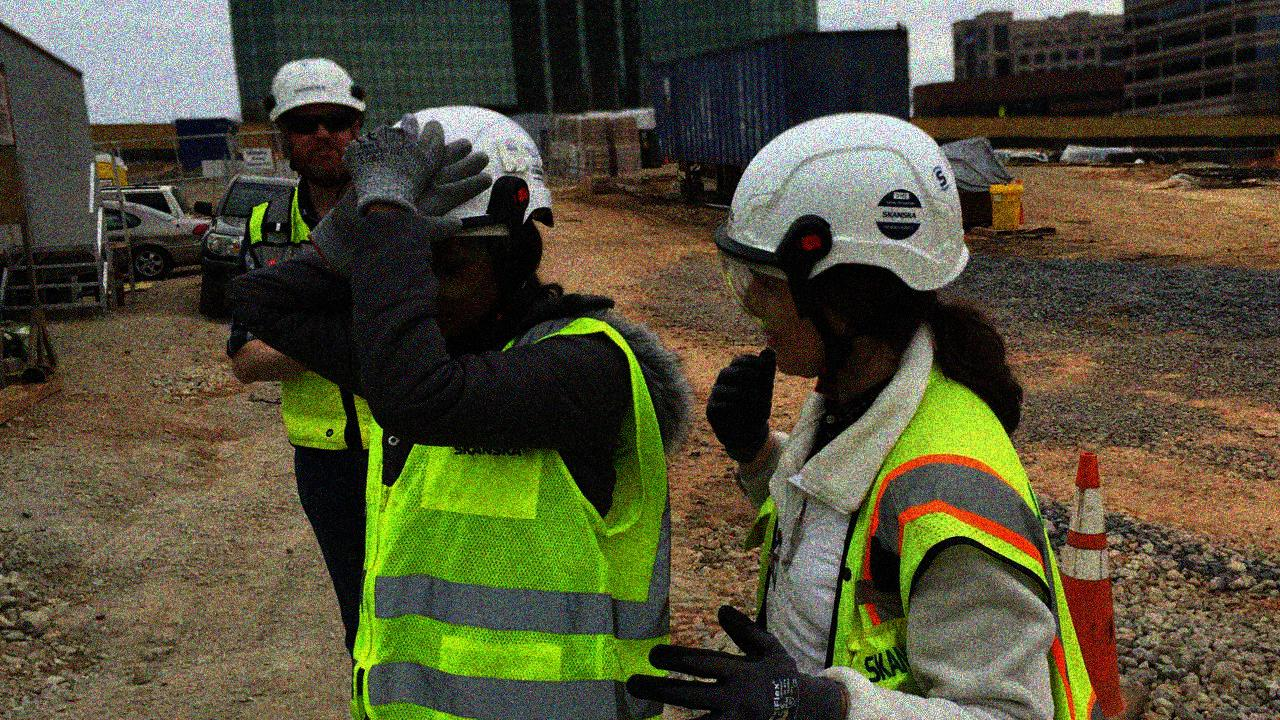helmet: (715, 115, 976, 373), (359, 103, 559, 323), (264, 53, 365, 183)
